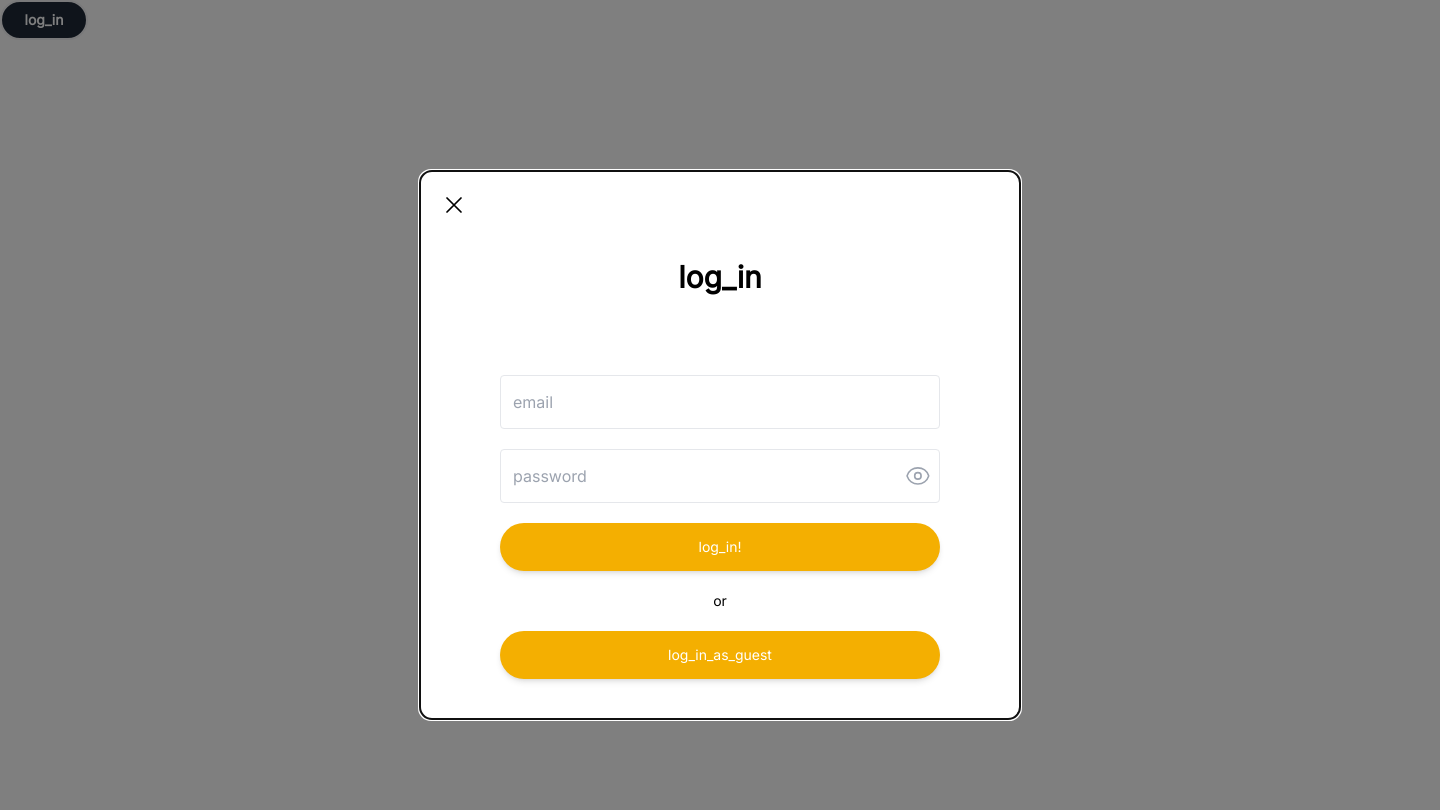
Test: LogInModal › toggles password visibility
Click the button named "Show password" at (918, 476), box [905, 462, 931, 490]
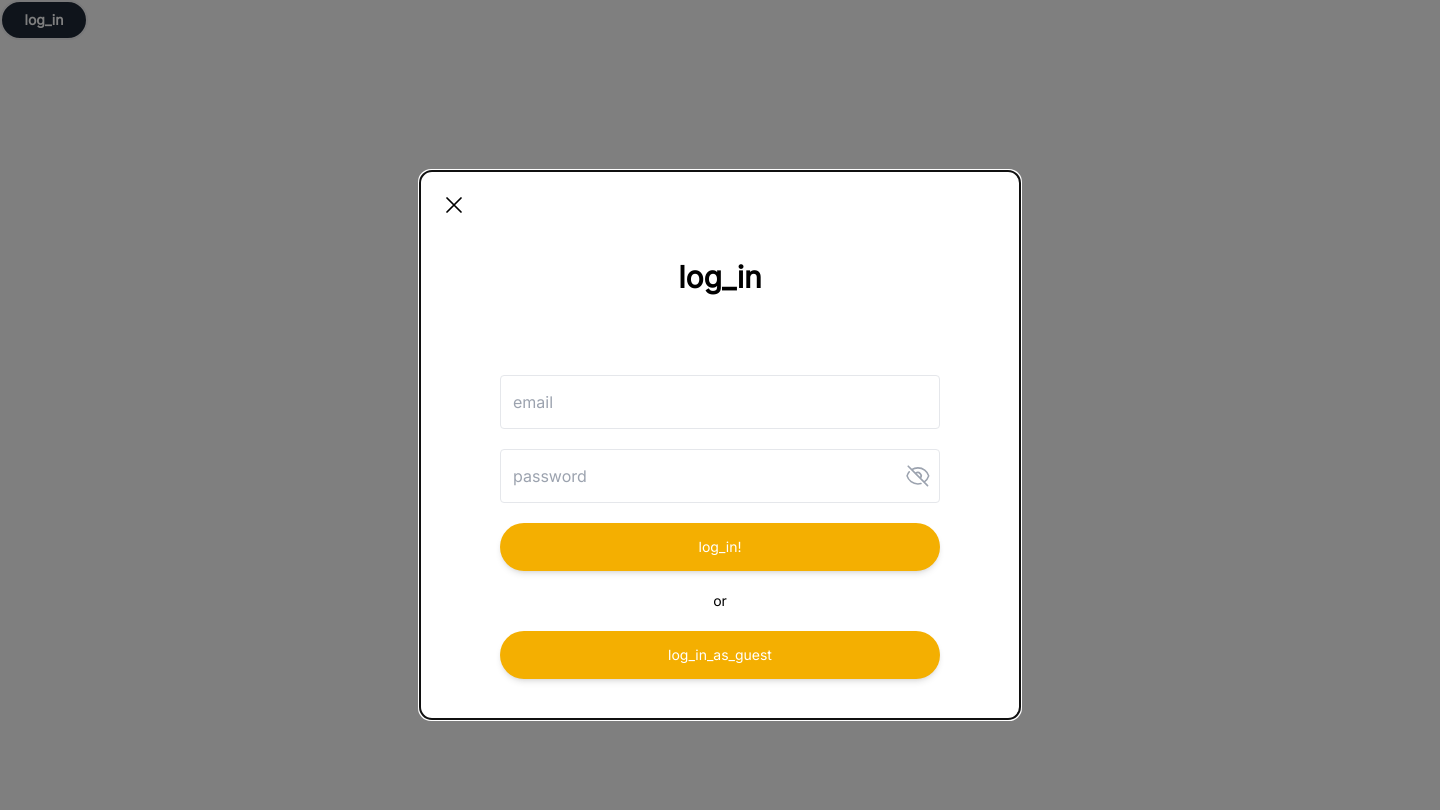
Expected: the button named "Hide password" is shown, [905, 462, 931, 490]
